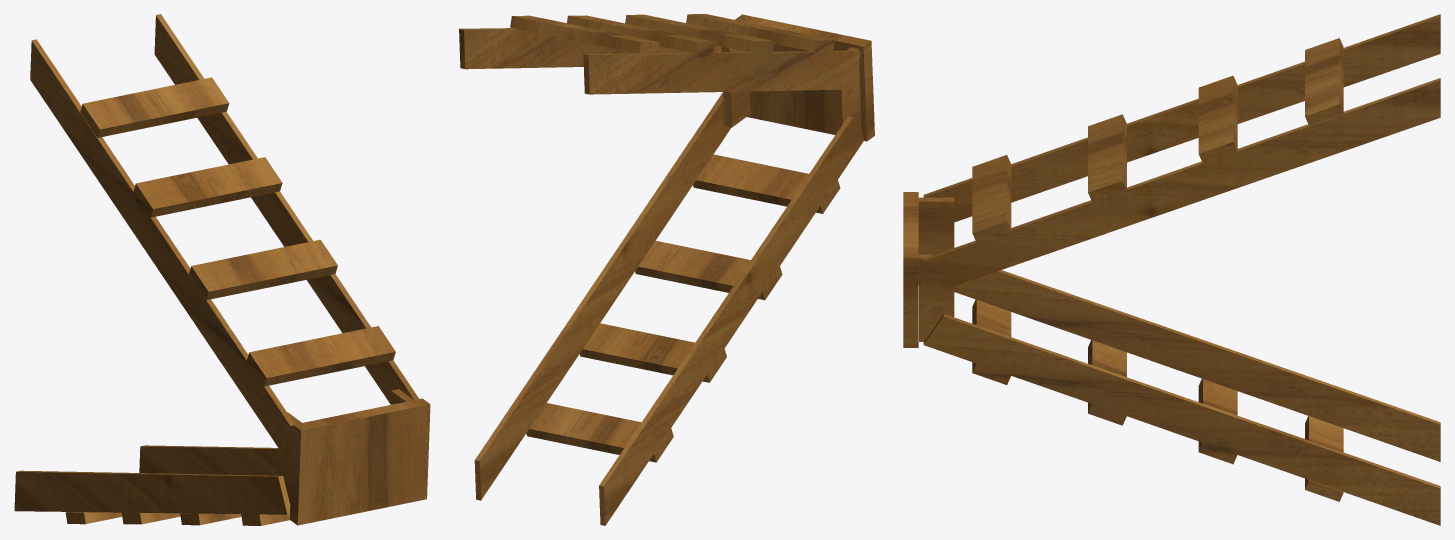
Rendered from escalera.dae.
The picture shows the model from 3 angles, left to right: view 1: azimuth 30°, elevation 25°; view 2: azimuth 150°, elevation 25°; view 3: azimuth 270°, elevation 25°; orthographic projection. The views are drawn at different scales.
Visible parts, largest first — view 1: node; view 2: node; view 3: node.
Part boxes in pixels (bbox=[...]): node: bbox=[14, 14, 430, 525]; node: bbox=[459, 14, 874, 525]; node: bbox=[903, 14, 1440, 525].
Bounding box in the file's own units: 666 × 2051 × 2177.
1 material, 1 textured.
